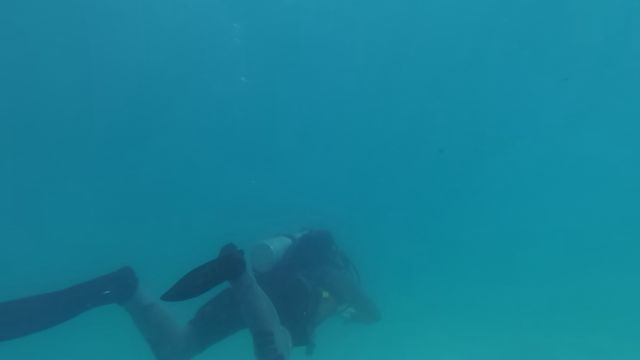Diver: (0, 189, 398, 359)
Hand: (328, 293, 388, 341)
